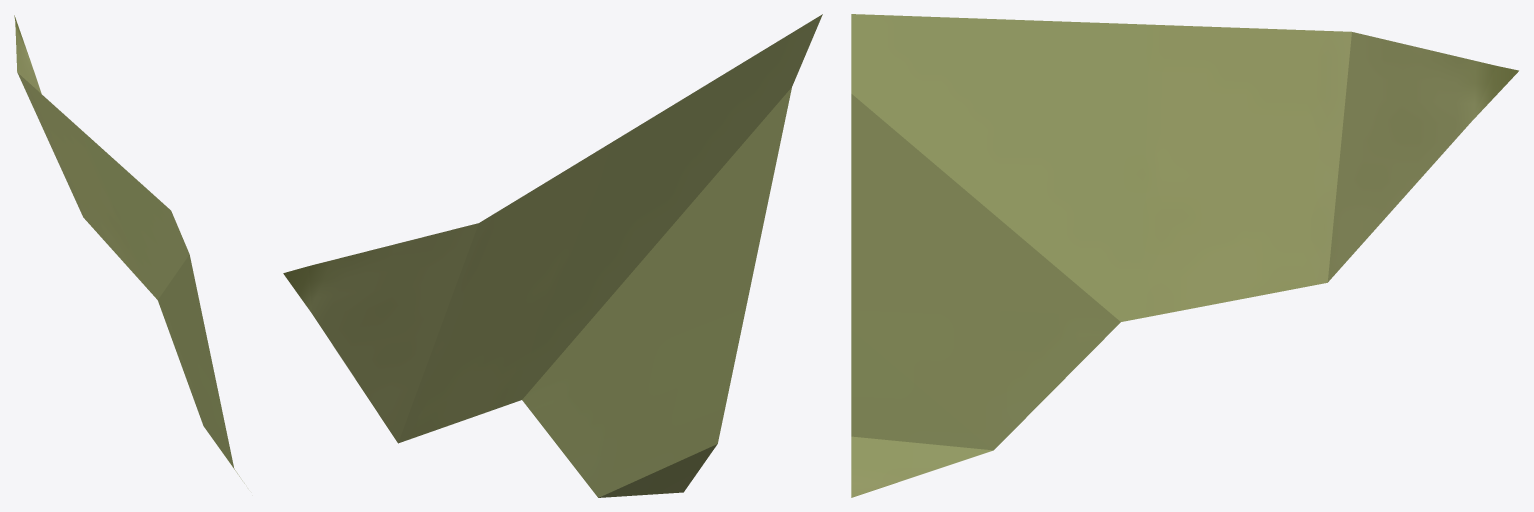
The picture shows the model from 3 angles, left to right: view 1: azimuth 30°, elevation 25°; view 2: azimuth 150°, elevation 25°; view 3: azimuth 270°, elevation 25°; orthographic projection. The views are drawn at different scales.
Bounding box in the file's own units: 0.0743 × 0.2613 × 0.3702.
1 material, 1 textured.
